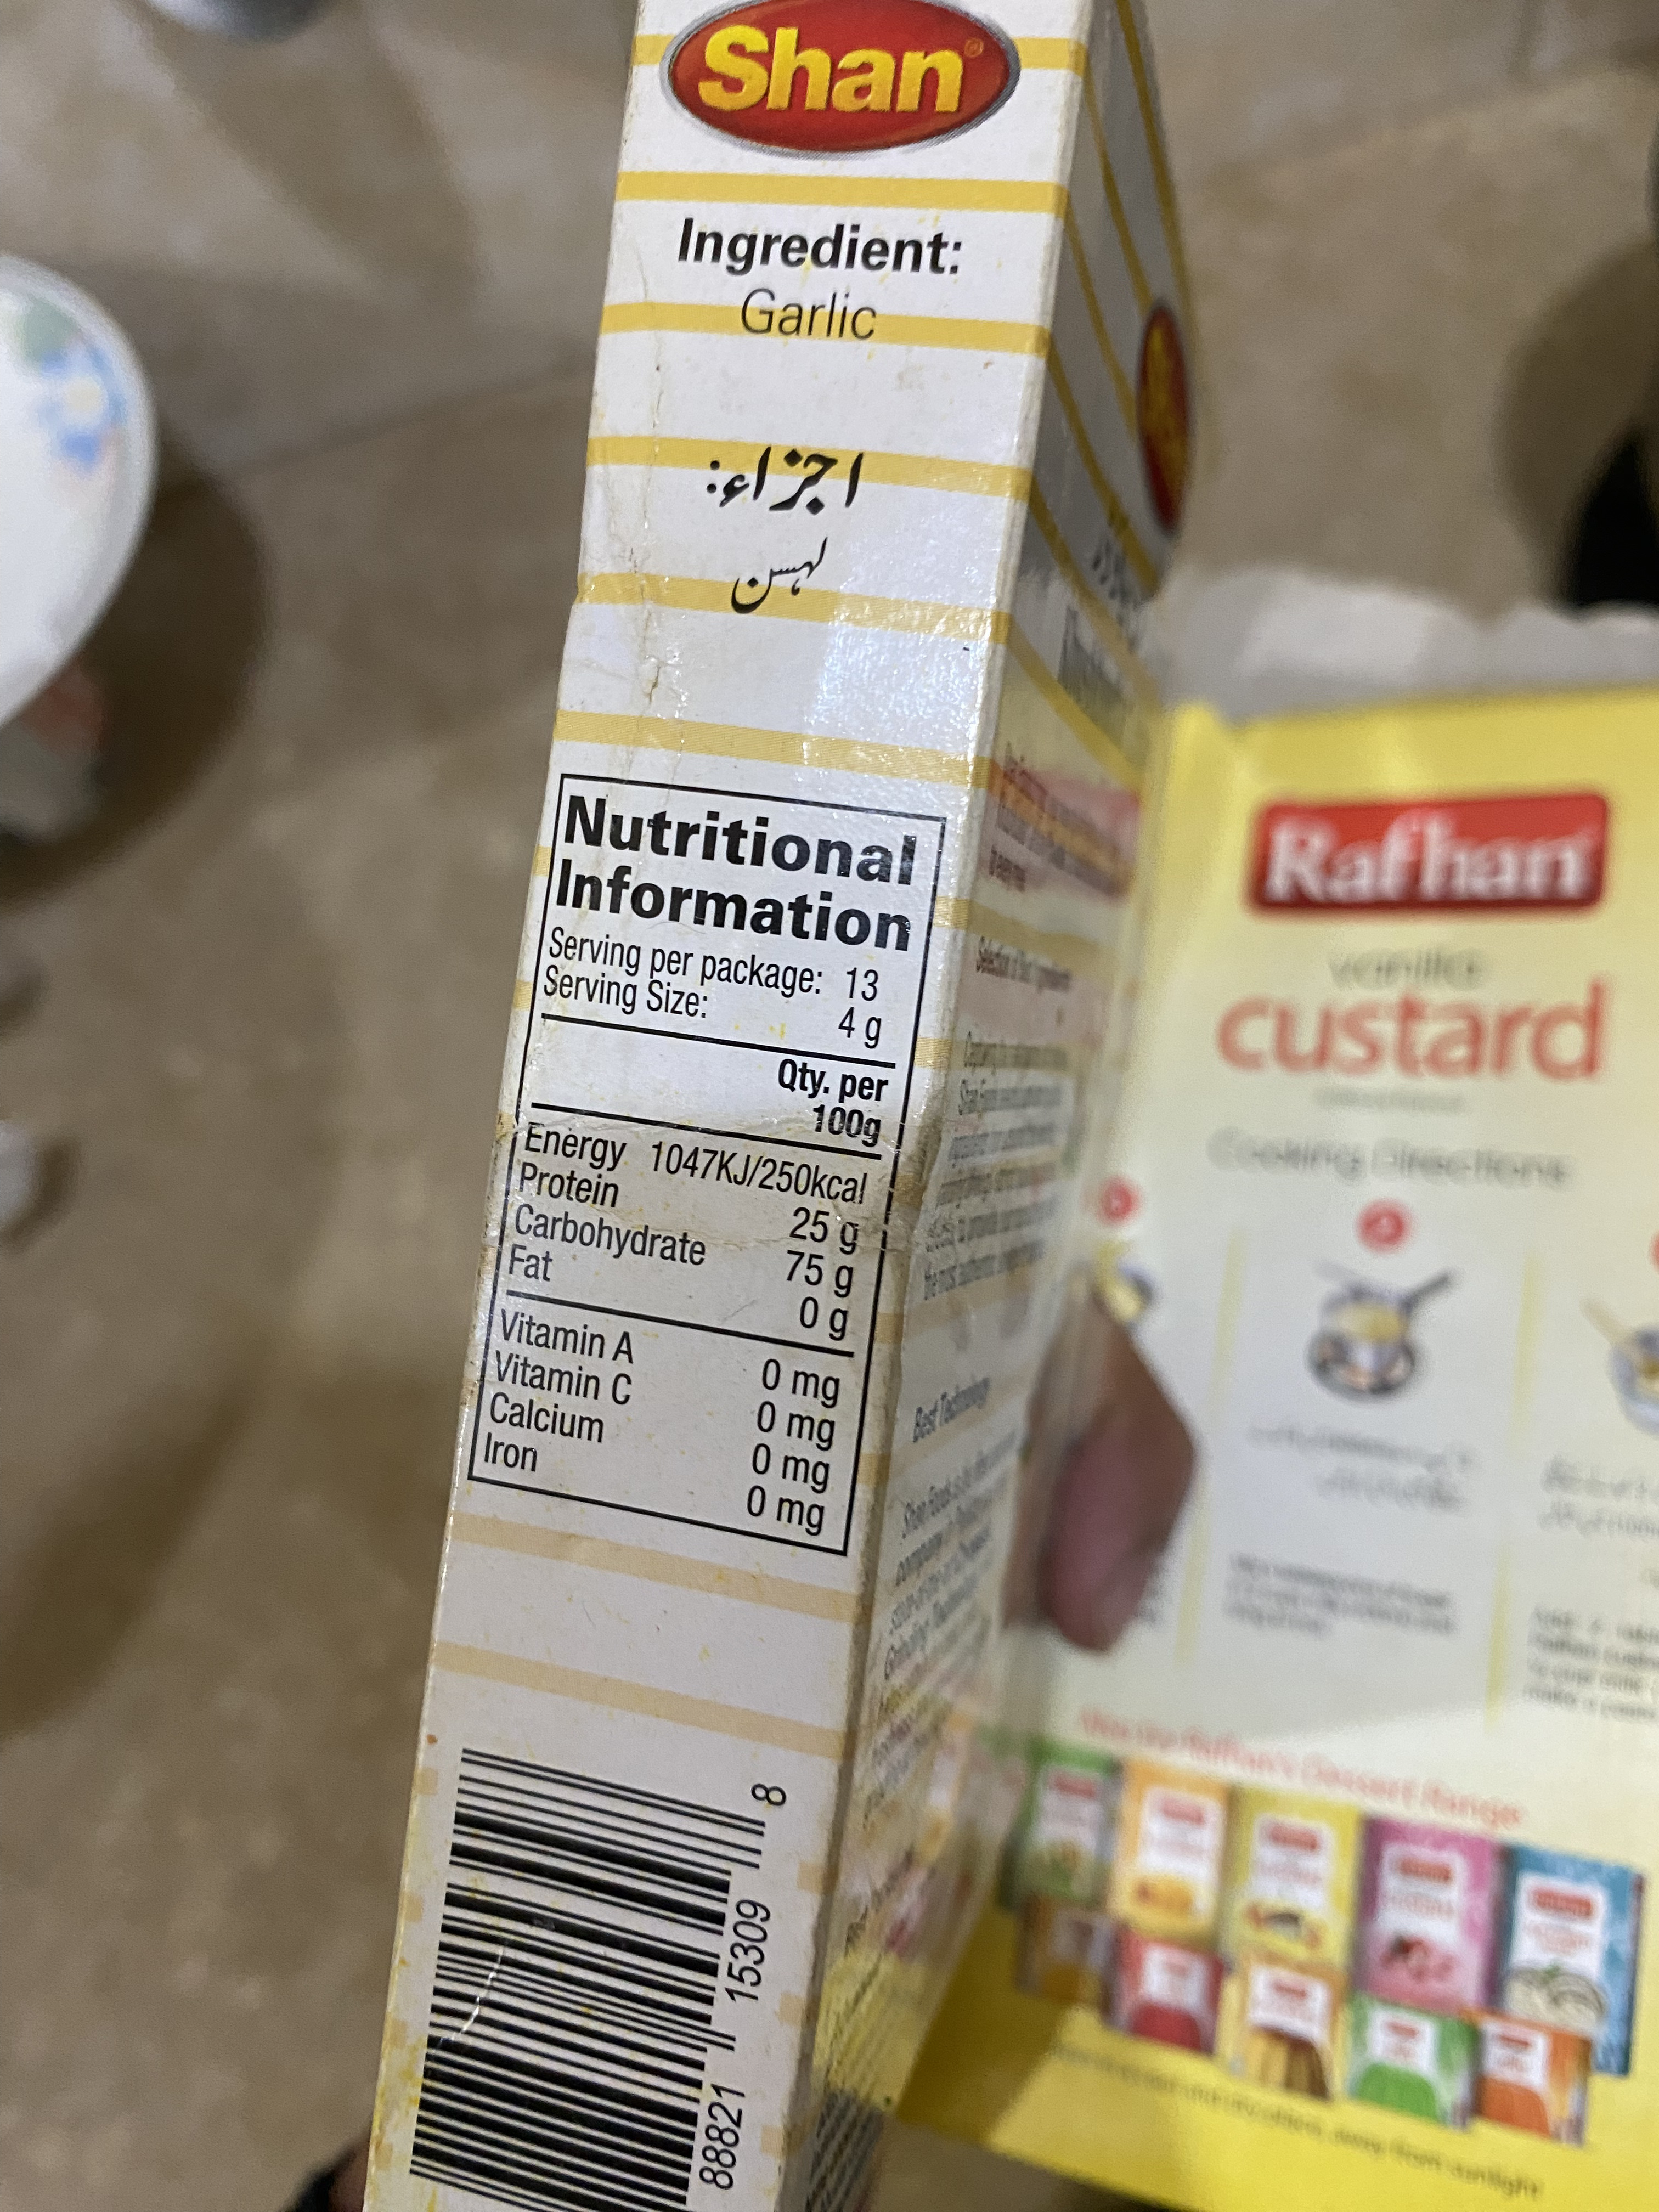table: (465, 770, 946, 1571)
